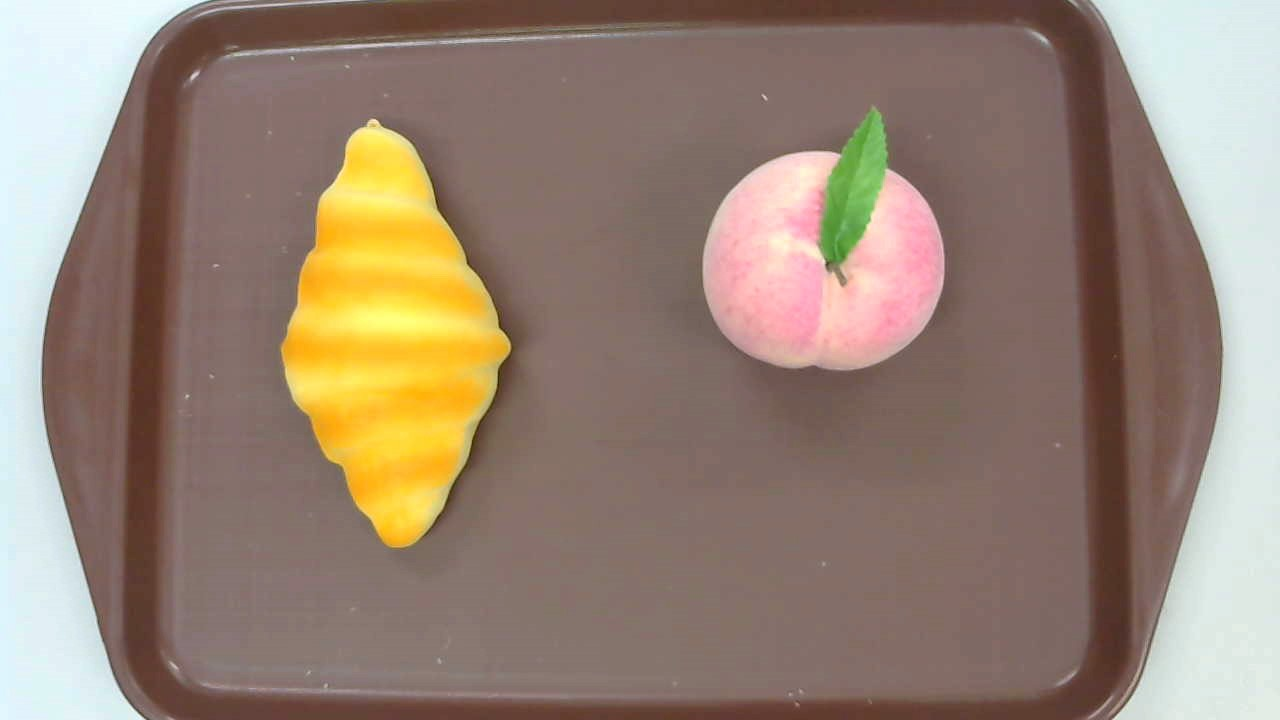croissant: (277, 119, 513, 549)
peach: (701, 106, 945, 370)
